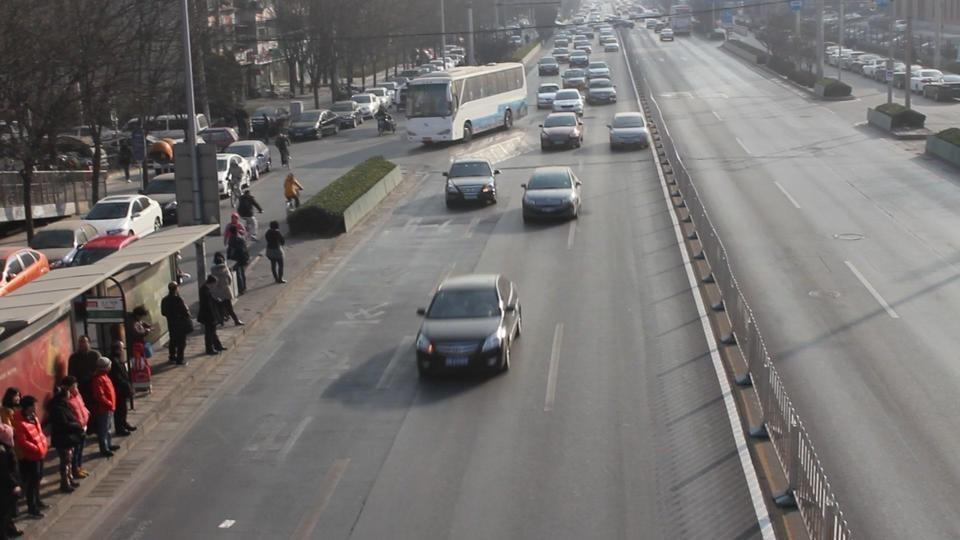car: (413, 273, 523, 379), (27, 218, 102, 268), (81, 194, 165, 238), (520, 166, 584, 222), (56, 230, 137, 269), (444, 158, 499, 210), (0, 247, 50, 294), (142, 176, 179, 226), (286, 109, 341, 142), (225, 140, 272, 178), (539, 113, 584, 151), (607, 112, 649, 151), (217, 154, 249, 198), (918, 72, 960, 102), (910, 68, 946, 95), (551, 89, 584, 116), (199, 127, 238, 149), (586, 80, 618, 105), (536, 82, 561, 110), (584, 61, 612, 82), (562, 68, 588, 90), (538, 59, 561, 81)
